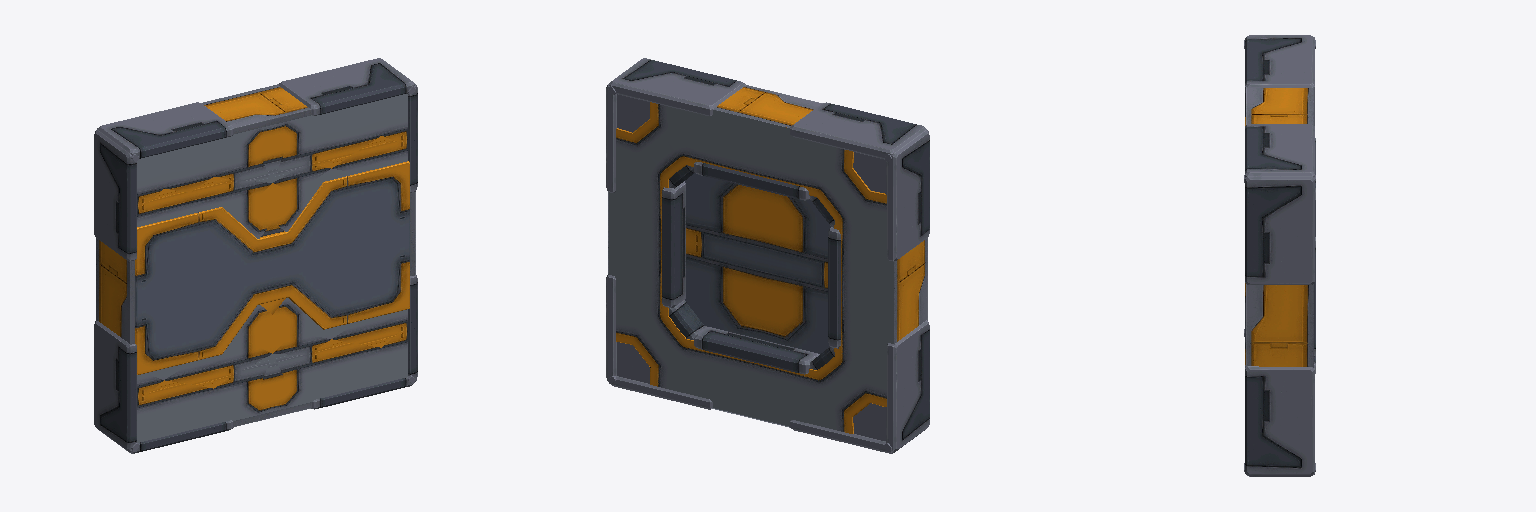
The picture shows the model from 3 angles: view 1: azimuth 30°, elevation 25°; view 2: azimuth 150°, elevation 25°; view 3: azimuth 270°, elevation 25°; orthographic projection.
Parts seen in each view (by area): view 1: Object.4, Object.3, Object.1, Object.2; view 2: Object.4, Object.1, Object.3, Object.2; view 3: Object.1, Object.2.
Part boxes in pixels (bbox=[...]): Object.4: bbox=[137, 94, 407, 442]; Object.3: bbox=[135, 161, 409, 374]; Object.1: bbox=[94, 58, 417, 453]; Object.2: bbox=[96, 84, 415, 426]; Object.4: bbox=[609, 102, 893, 433]; Object.1: bbox=[606, 58, 929, 453]; Object.3: bbox=[685, 173, 830, 353]; Object.2: bbox=[608, 85, 927, 427]; Object.1: bbox=[1244, 35, 1315, 476]; Object.2: bbox=[1246, 87, 1313, 367].
Size of the model in its own units: 0.512 by 0.5122 by 0.1107.
Materials: 4 (4 with a texture image).